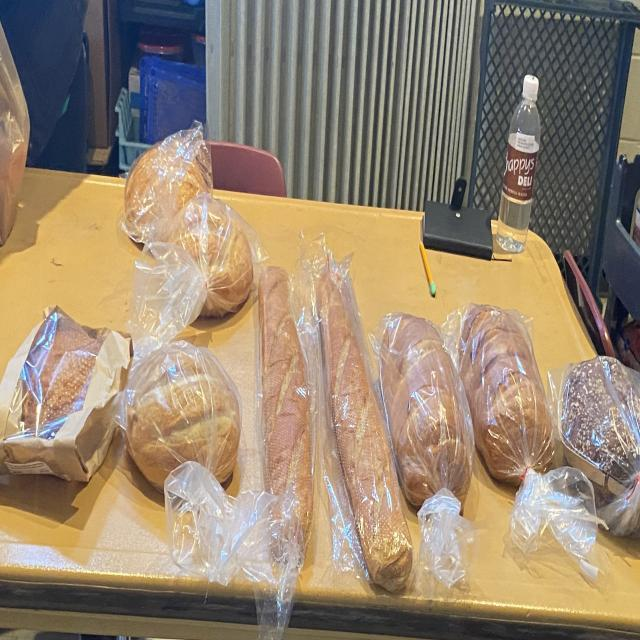Bread: (549, 357, 640, 537)
Water: (165, 266, 315, 637), (449, 306, 598, 579), (299, 236, 412, 593), (118, 243, 242, 490), (371, 313, 475, 595), (0, 308, 132, 483), (165, 194, 268, 317), (121, 121, 212, 243), (498, 77, 540, 252)
